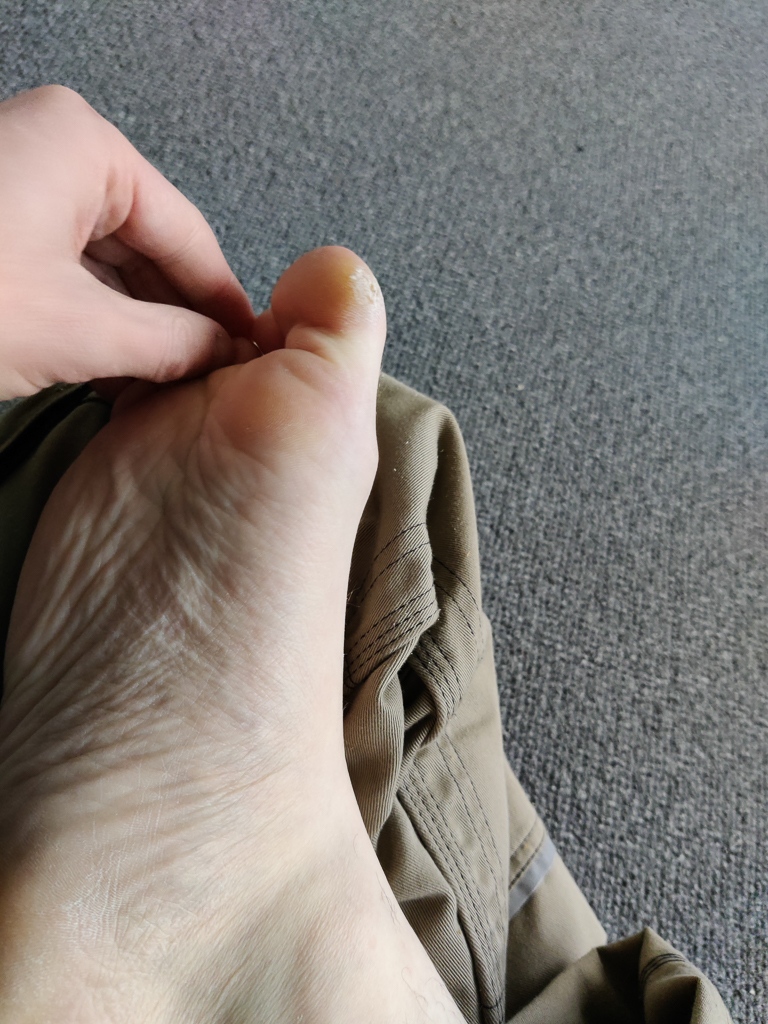Humanoid: (0, 68, 746, 1024)
